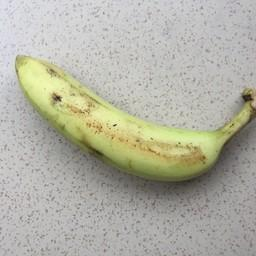Good_banana: (11, 45, 242, 200)
